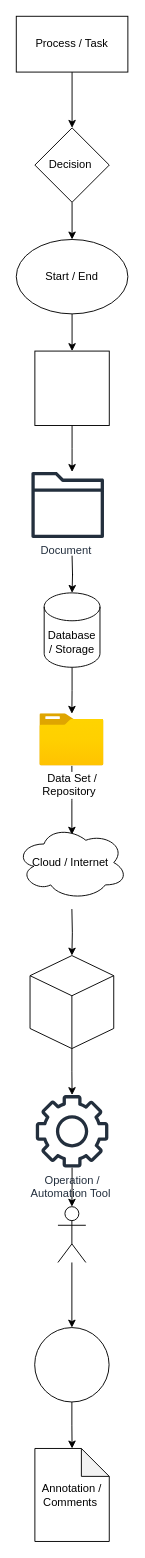
Image size: 145x1558. Some labels were removed from this diagram. Here are the shapes that lost their labels. From the top down, the centre of each, then its label:
At point (71, 387): "Input / Output".
At point (71, 1002): "Service / Microservice".
At point (71, 1234): "Actor".
At point (71, 1364): "Connector Node".
